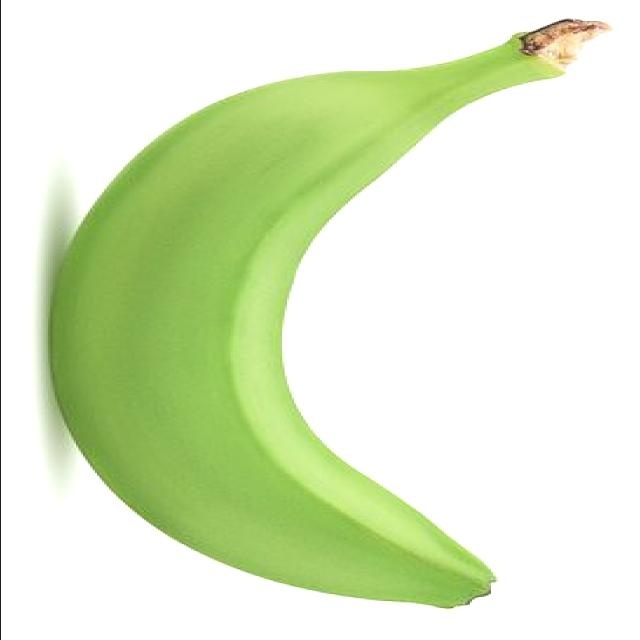agrume: (41, 21, 607, 607)
